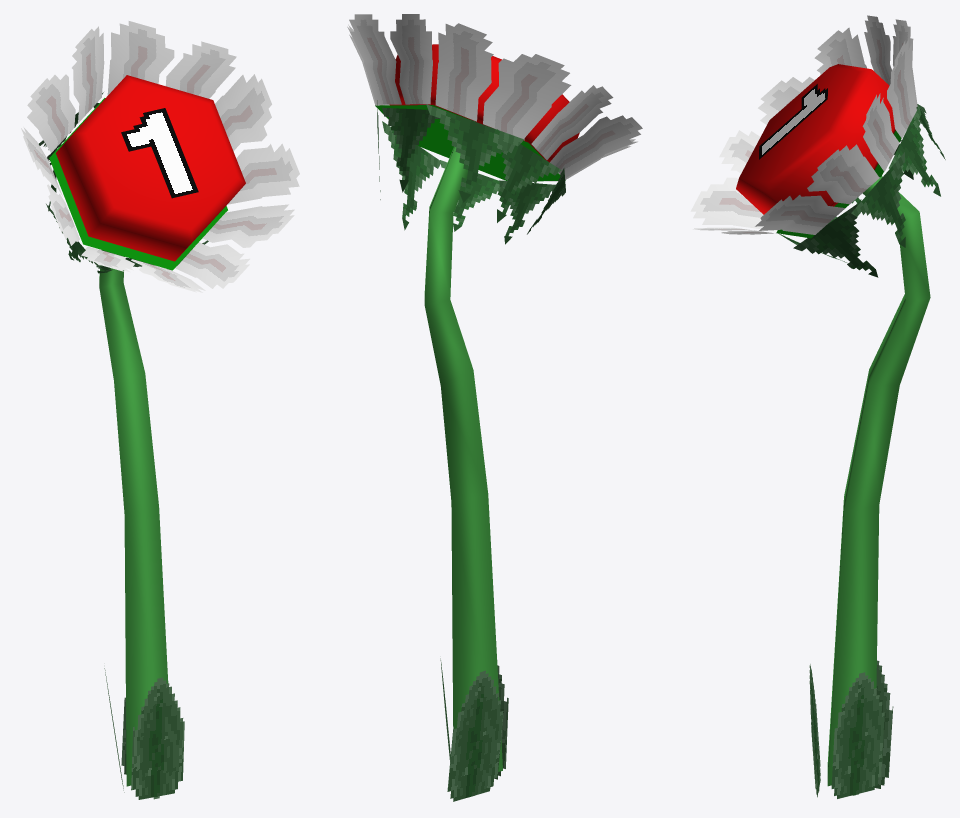
The model's file is pellet_posy.fbx.
The picture shows the model from 3 angles, left to right: view 1: azimuth 30°, elevation 25°; view 2: azimuth 150°, elevation 25°; view 3: azimuth 270°, elevation 25°; orthographic projection. The views are drawn at different scales.
Visible parts, largest first — view 1: Posy; view 2: Posy; view 3: Posy.
Boxes of the visible parts, box(x1,y1,x2,y2) form: Posy: box(21, 21, 299, 799); Posy: box(347, 14, 642, 801); Posy: box(690, 15, 945, 798).
Size of the model in its own units: 4.18 by 12.58 by 3.92.
Materials: 7 (4 with a texture image).
